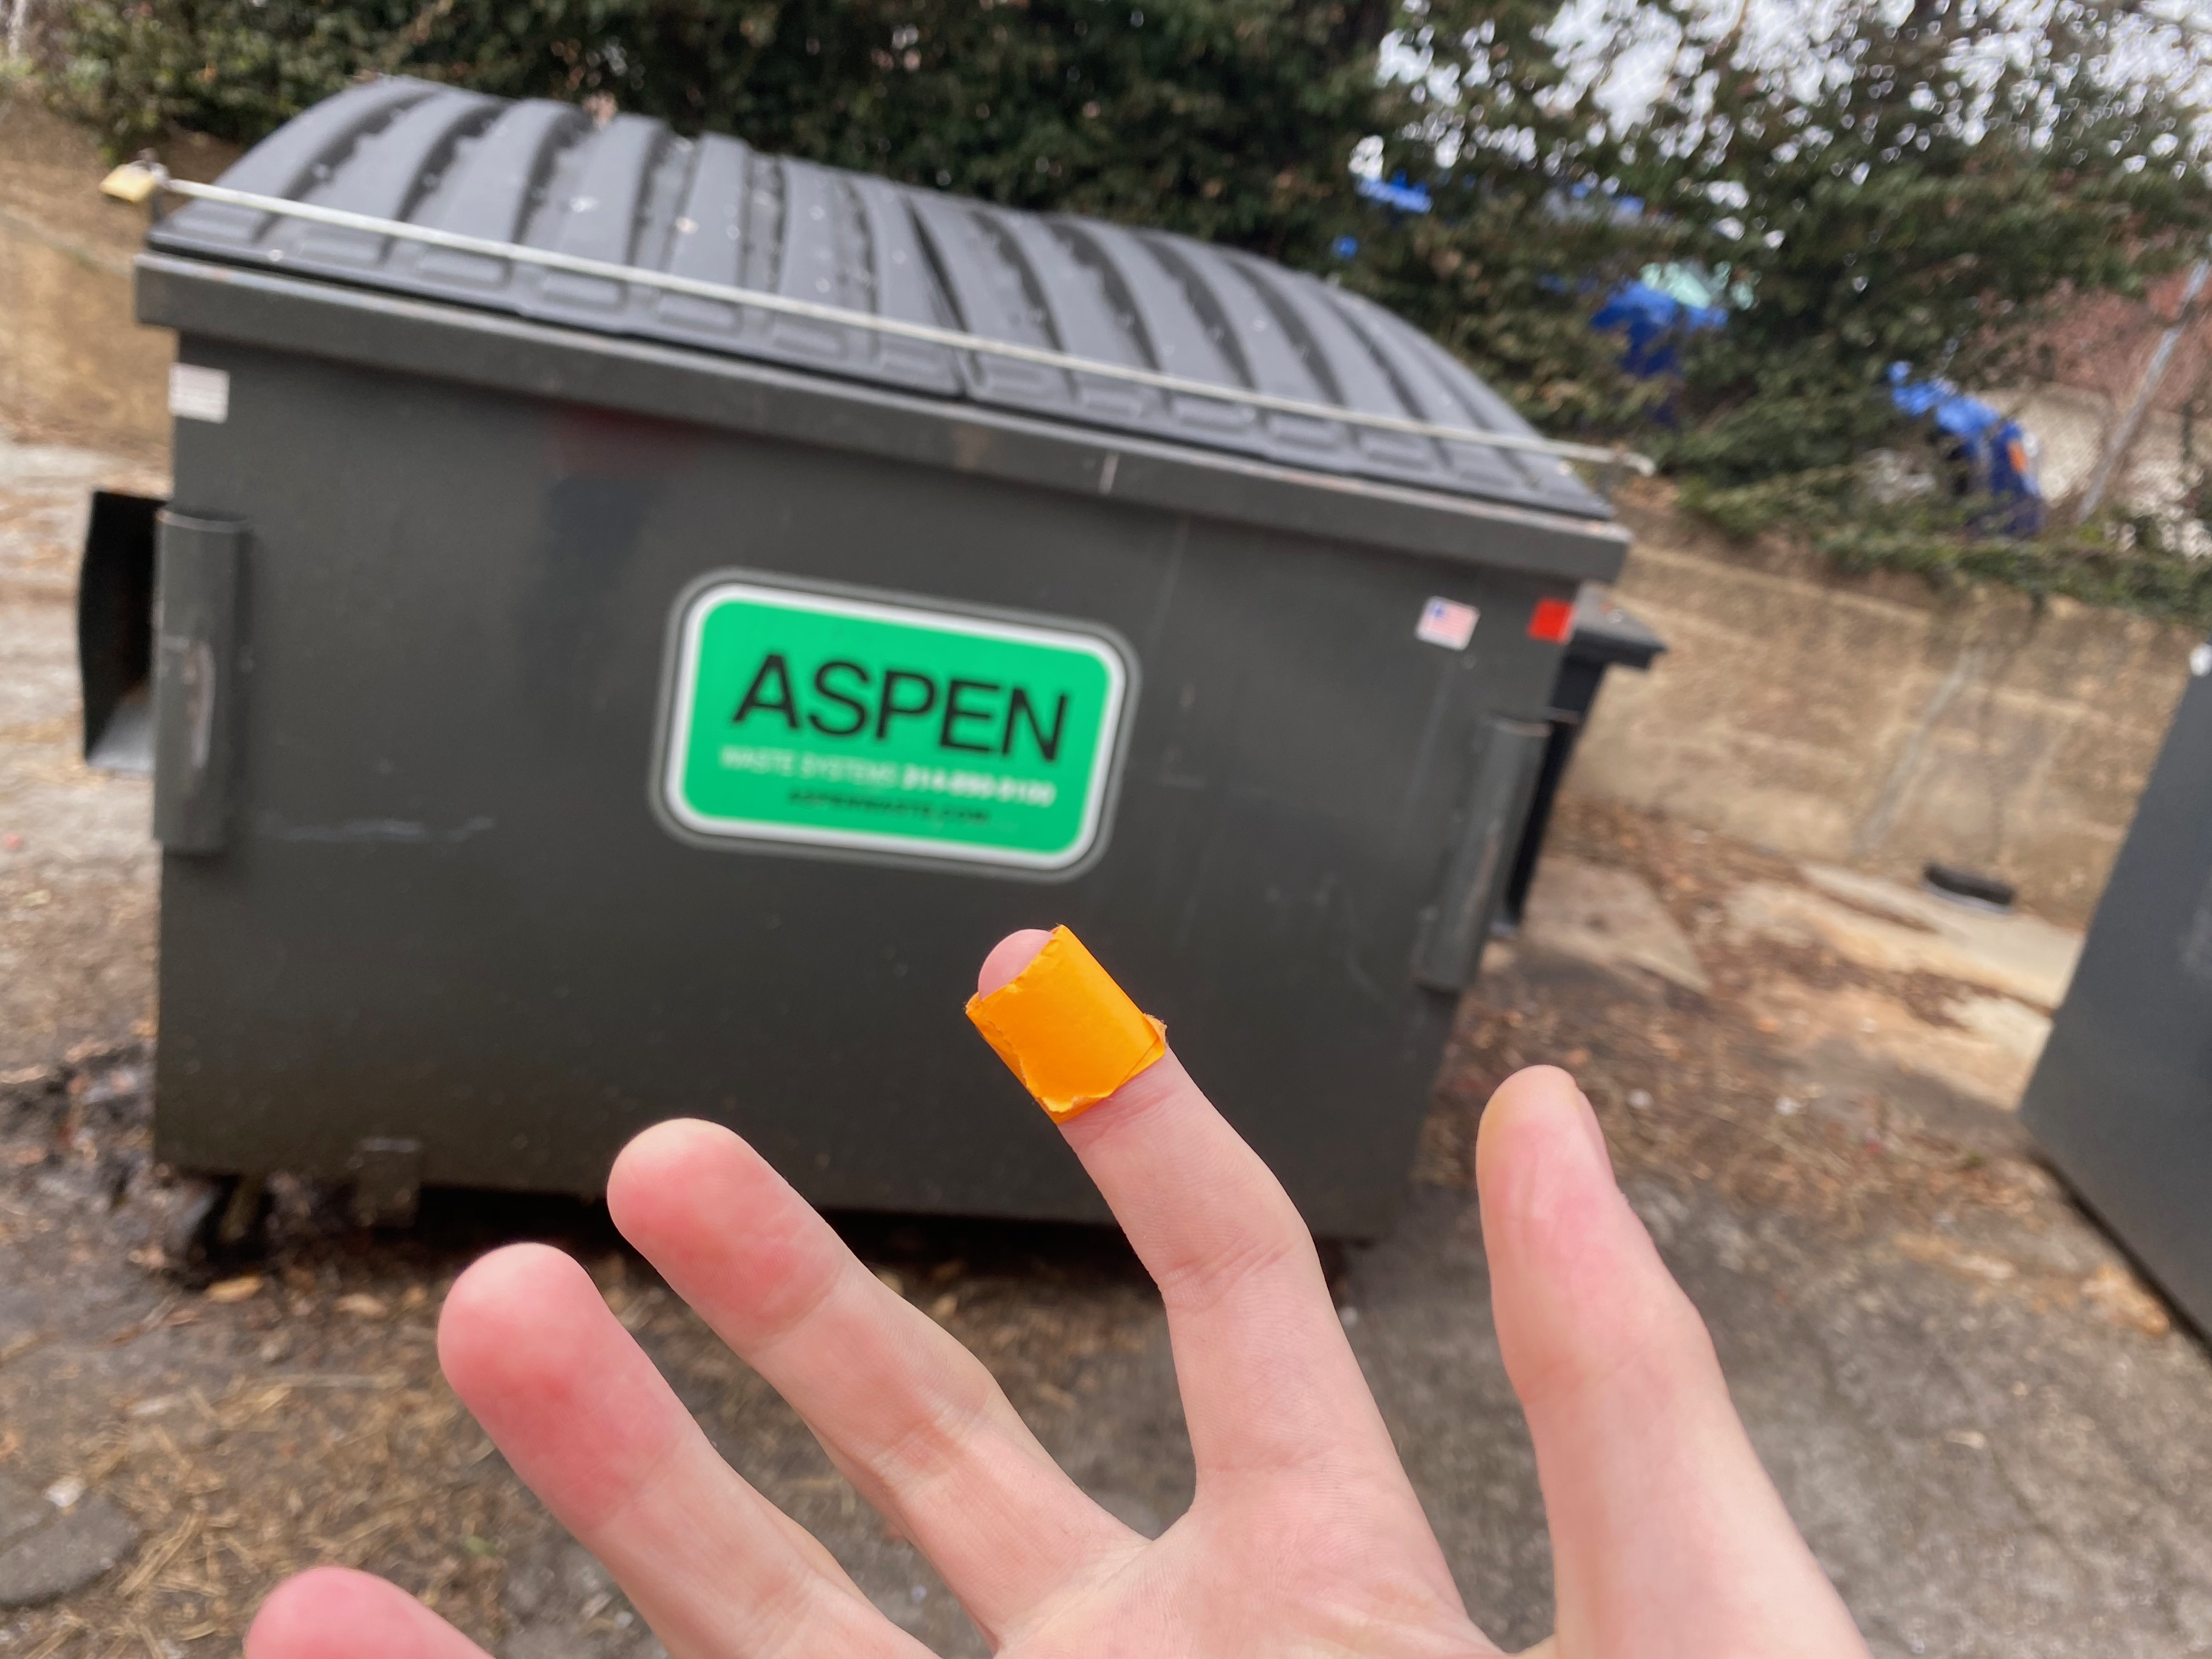fingertip: (954, 911, 1184, 1145)
